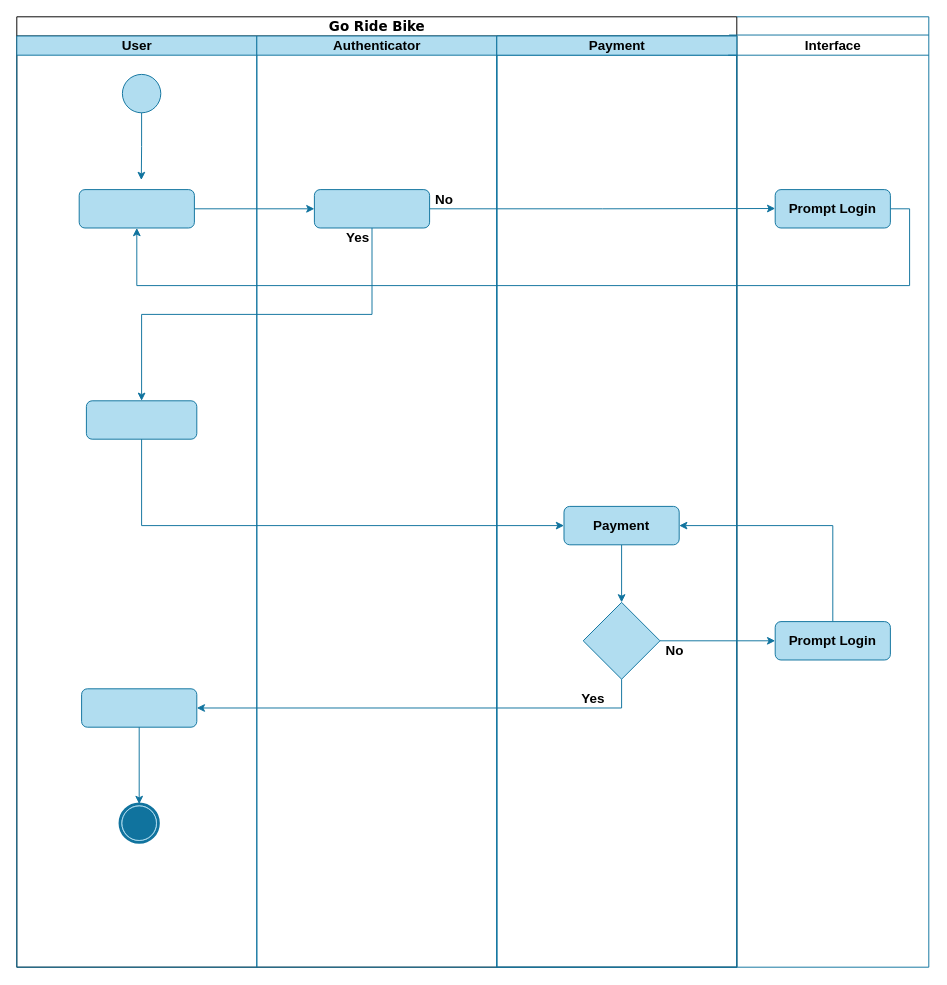
The diagram is 947 pixels wide and 985 high, and some of its shapes have lost their labels. The centre of each missing label's shape, as x and y in pixels:
Login: the point at 136,208
Order Success: the point at 139,707
Post Add: the point at 141,419
Verify: the point at 371,208
